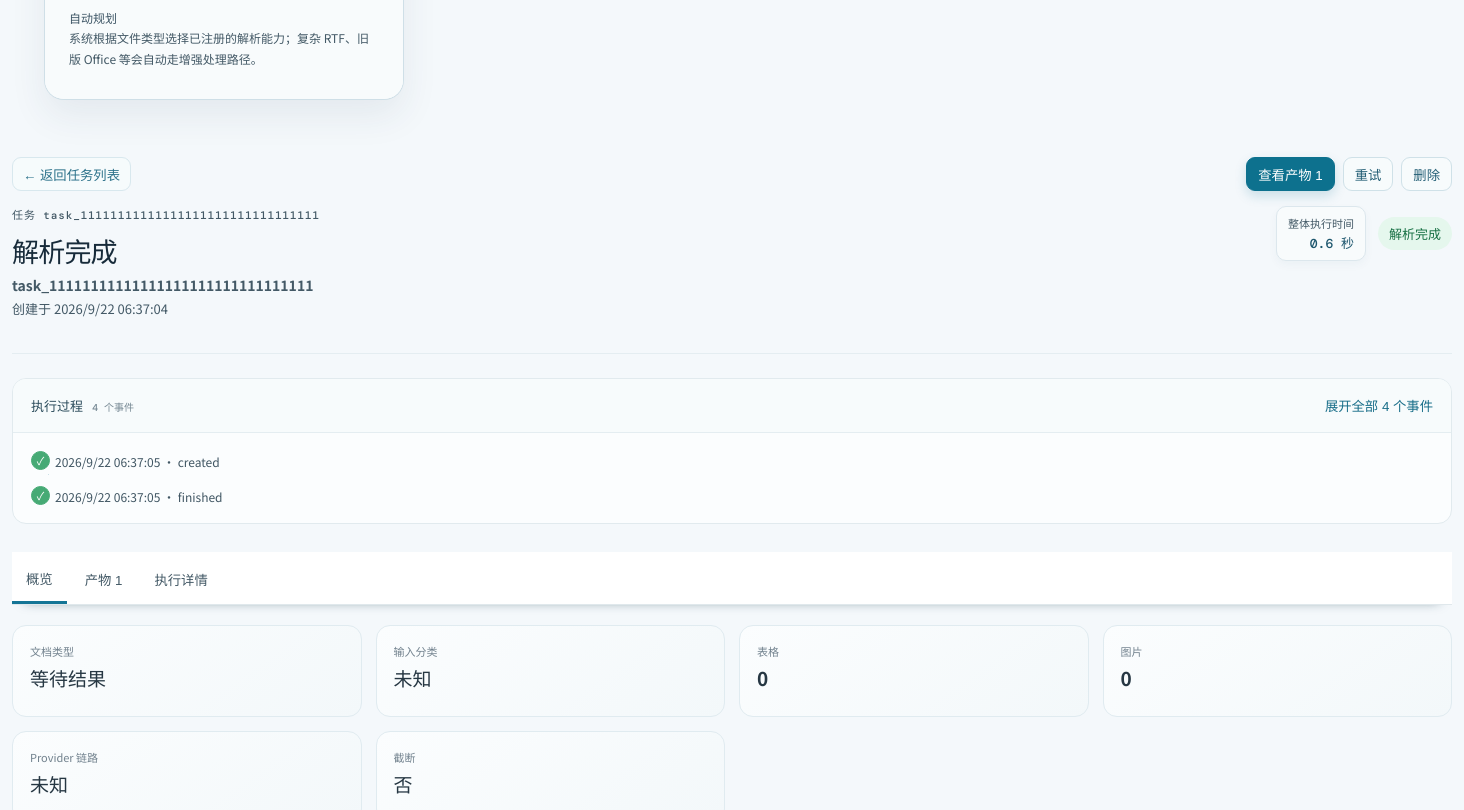
Scenario: TaskView accessibility › shows only available result views and expands completed task events on demand
The image size is (1464, 810).
(page scrolled)
Click the button "展开全部 4 个事件".
click(1379, 406)  # box x1=1325 y1=392 x2=1433 y2=419
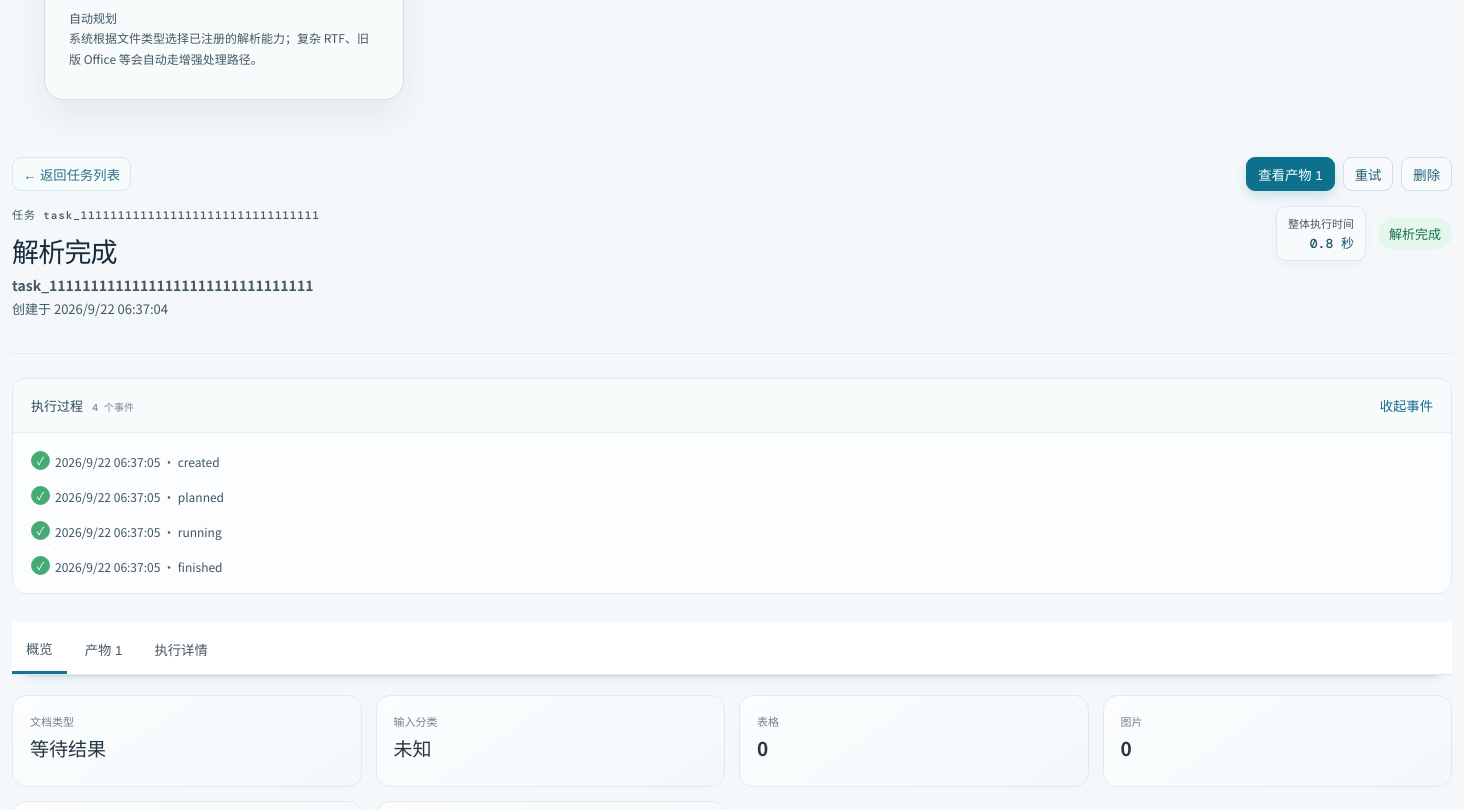
Expected: the button "收起事件" is shown, x1=1380 y1=392 x2=1433 y2=419
